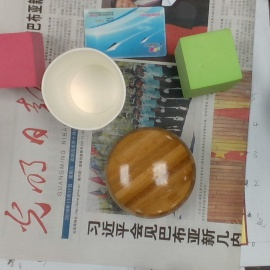card: (81, 4, 168, 57)
chess: (105, 128, 196, 217)
cup: (40, 48, 126, 132)
